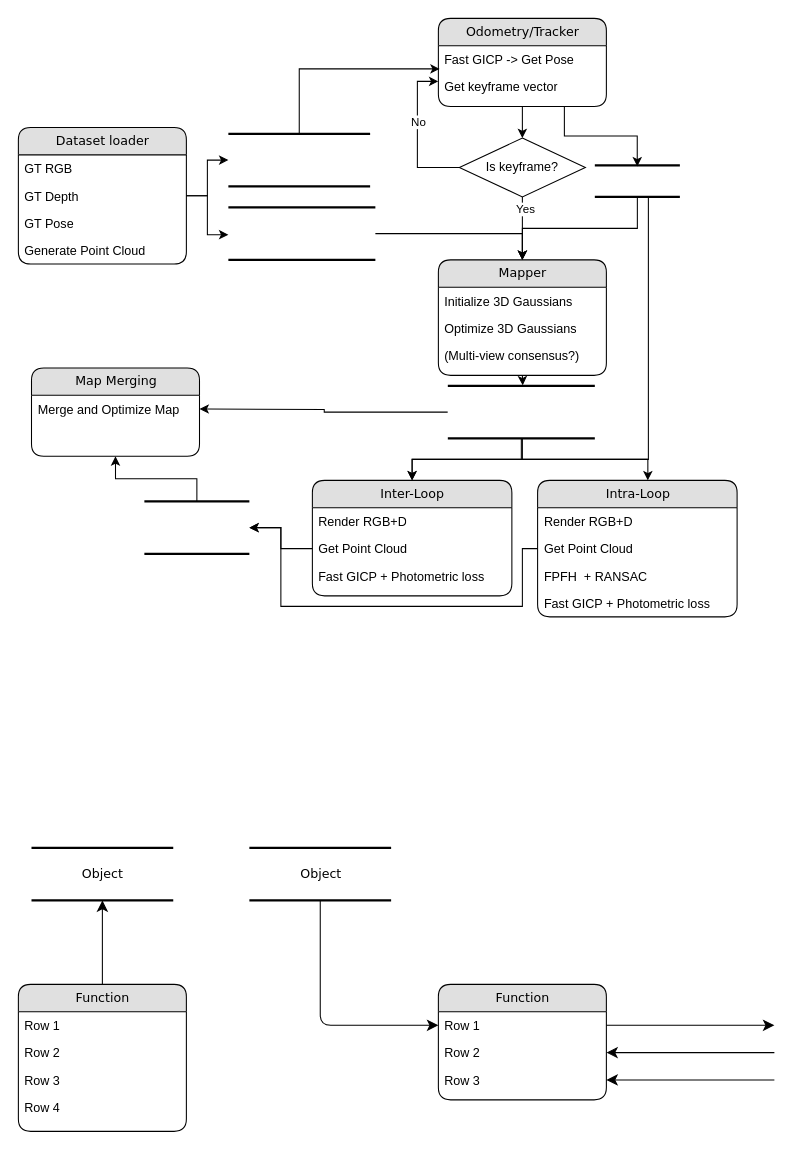
Some shapes in this 803 by 1150 pixel diagram are drawn without their labels. Each missing label, with the centre of its shape:
"3D Gaussian map" goes at pixel 520 411.
"Optimized Pose" goes at pixel 196 527.
"Point Cloud" goes at pixel 299 159.
"Pose" goes at pixel 636 180.
"RGB, Depth, Point Cloud" goes at pixel 301 233.
